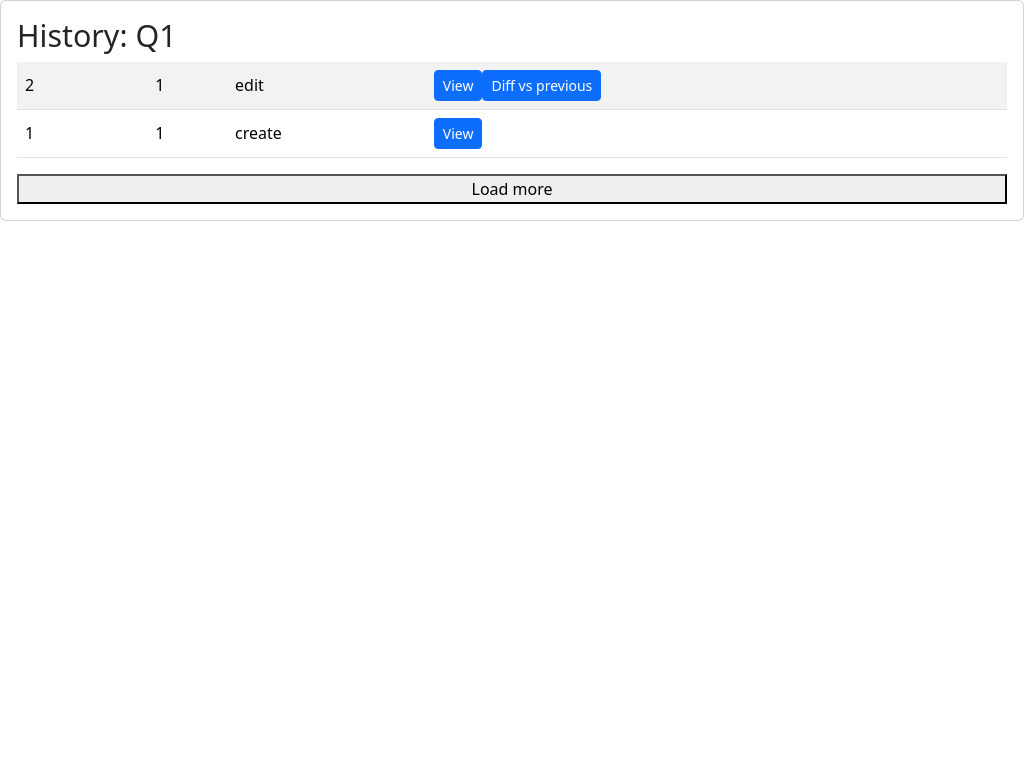
Test: EntityHistoryView › shows a diff against the previous revision
The image size is (1024, 768).
Click the button with test id "history-diff" at (542, 85), box x1=482 y1=70 x2=601 y2=100
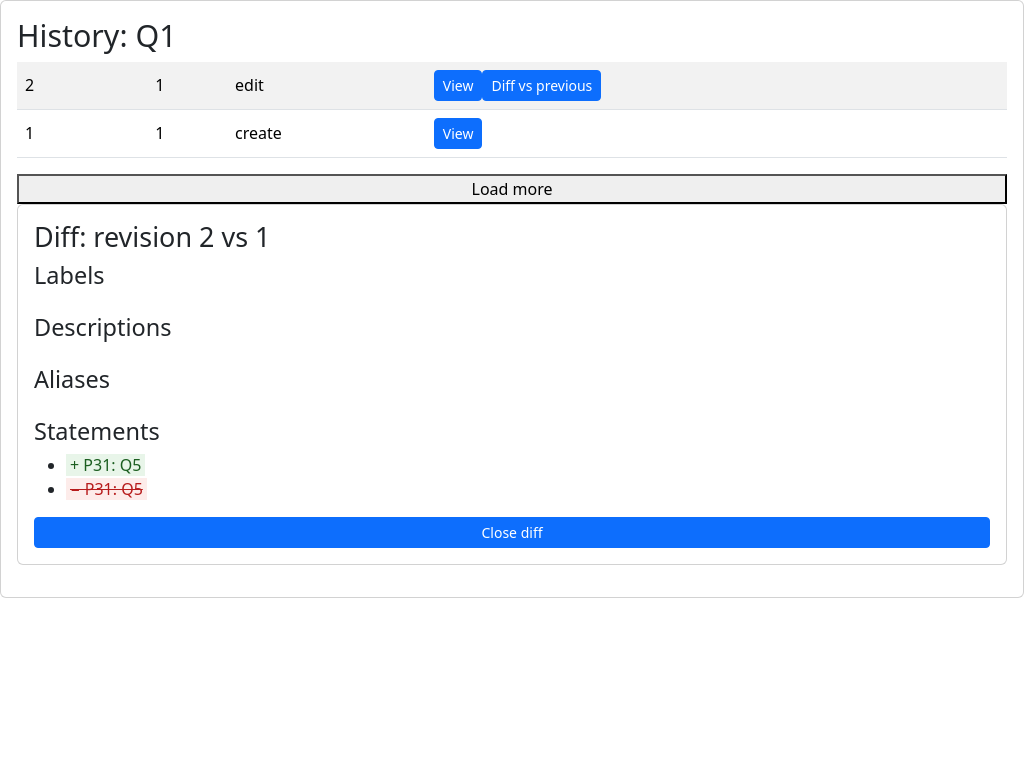
Now the element with test id "diff-view" is shown, box x1=17 y1=204 x2=1007 y2=565
Now the text with test id "diff-added" shows "P31: Q5", box x1=70 y1=454 x2=141 y2=476
Now the text with test id "diff-removed" reads "− P31: Q5", box x1=70 y1=478 x2=143 y2=500
